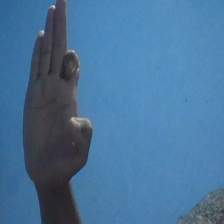F: (19, 1, 96, 185)
